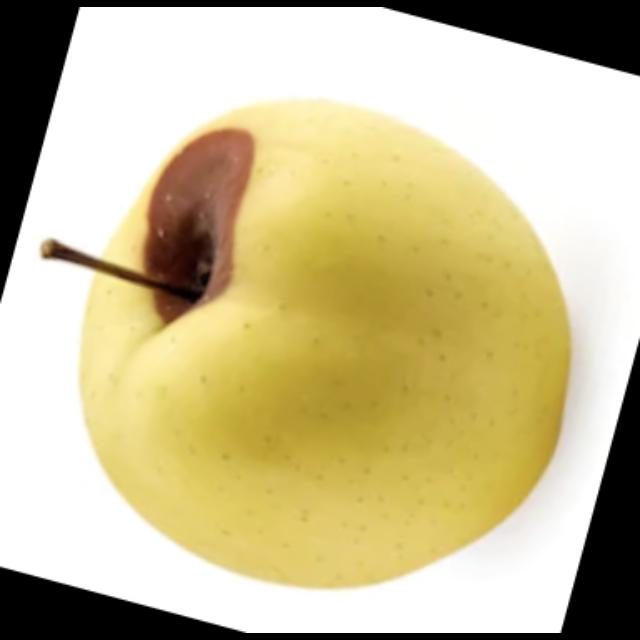Apel Tidak Segar: (72, 90, 578, 598)
